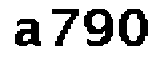0: (118, 6, 151, 49)
7: (49, 6, 82, 52)
9: (82, 5, 115, 51)
a: (8, 17, 44, 50)
